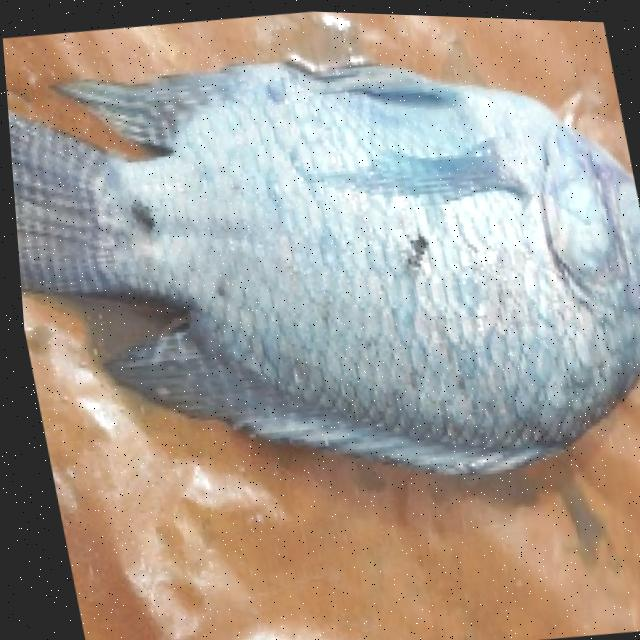Non-Fresh: (86, 38, 640, 475)
